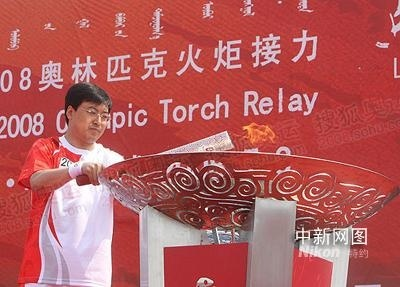fire: (238, 116, 278, 147)
